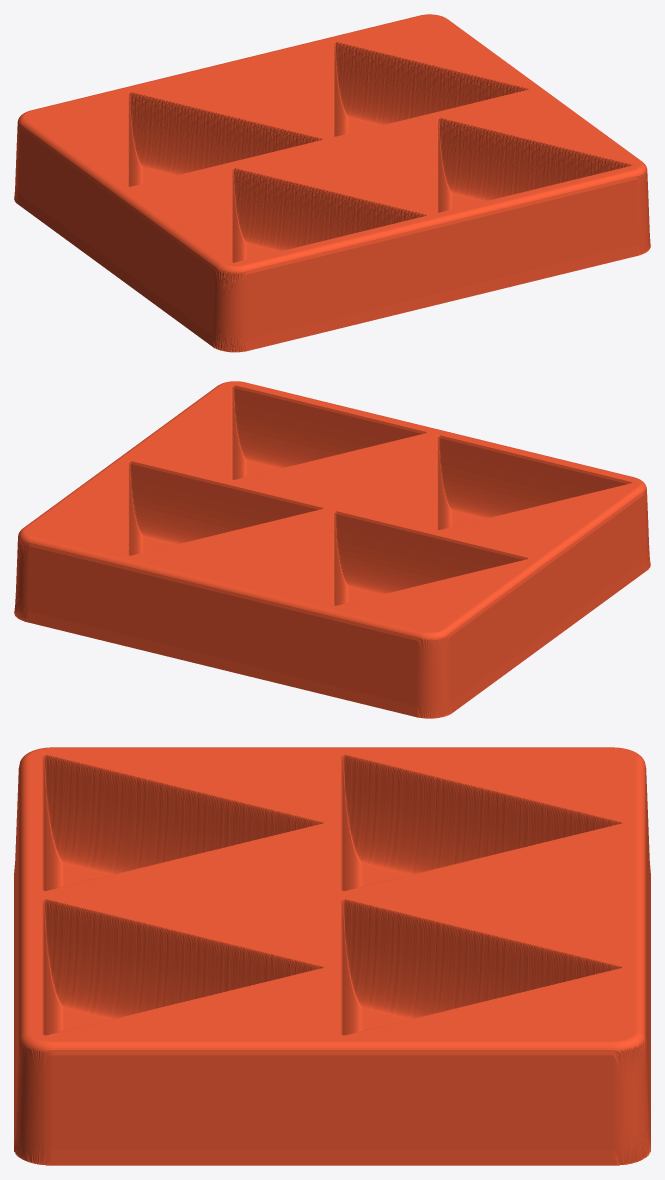
Rendered from mold.glb.
3 renders of one model, top to bottom at view 1: azimuth 30°, elevation 25°; view 2: azimuth 150°, elevation 25°; view 3: azimuth 270°, elevation 25°, orthographic. The views are drawn at different scales.
Visible parts, largest first — view 1: geometry_0; view 2: geometry_0; view 3: geometry_0.
Boxes of the visible parts, x1=… form: geometry_0: x1=14, y1=14, x2=650, y2=352; geometry_0: x1=14, y1=381, x2=650, y2=718; geometry_0: x1=14, y1=747, x2=650, y2=1165.
Size of the model in its own units: 0.1721 by 0.031 by 0.1516.
